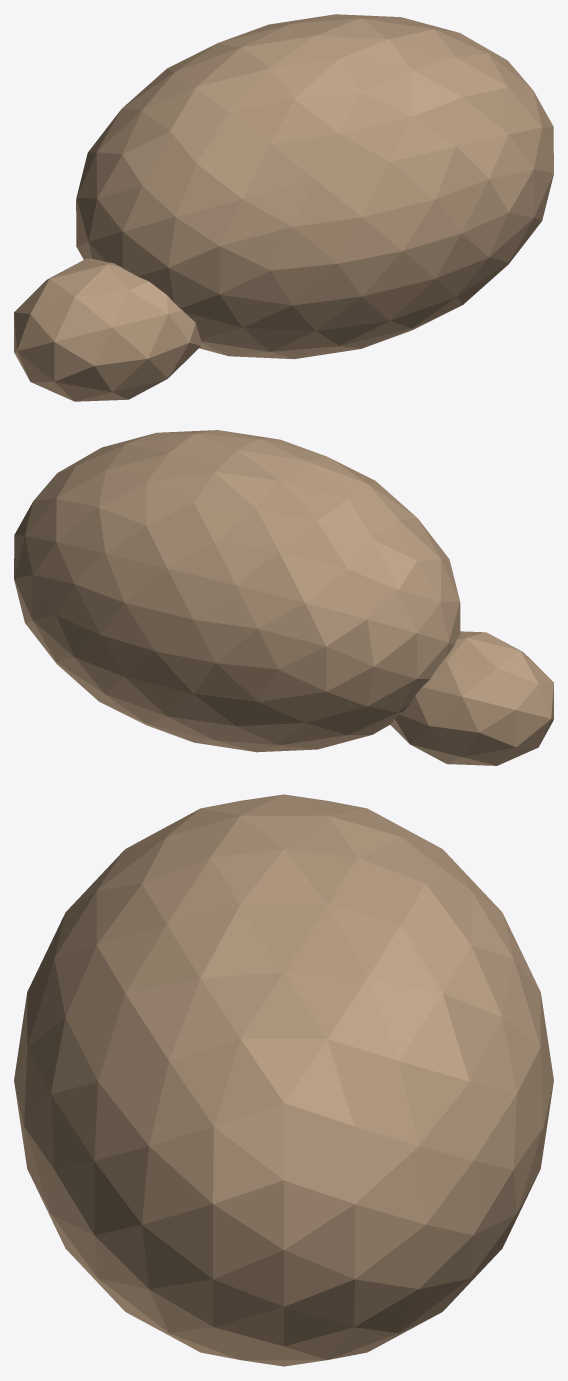
Rendered from rocks_sandstone.glb.
3 views of the same model, one above another, from view 1: azimuth 30°, elevation 25°; view 2: azimuth 150°, elevation 25°; view 3: azimuth 270°, elevation 25° (orthographic). The views are drawn at different scales.
Parts seen in each view (by area): view 1: main, small; view 2: main, small; view 3: main.
Boxes of the visible parts, x1,y1,x2,y2 form: main: (76, 14, 553, 359); small: (14, 258, 200, 401); main: (14, 430, 460, 752); small: (390, 631, 553, 765); main: (14, 794, 553, 1366).
Size of the model in its own units: 1.32 by 0.7 by 0.74.
